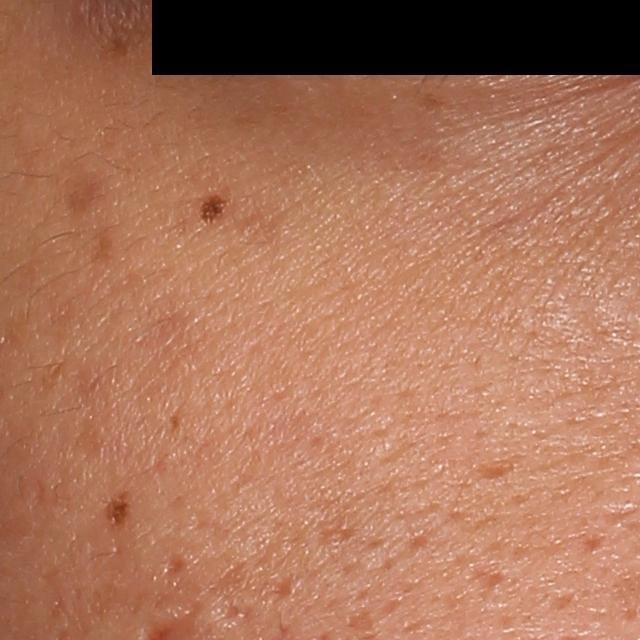atrophic_scar: (469, 457, 520, 486), (470, 566, 508, 594), (158, 550, 188, 584)
nevus: (104, 492, 132, 534), (198, 191, 232, 225)
